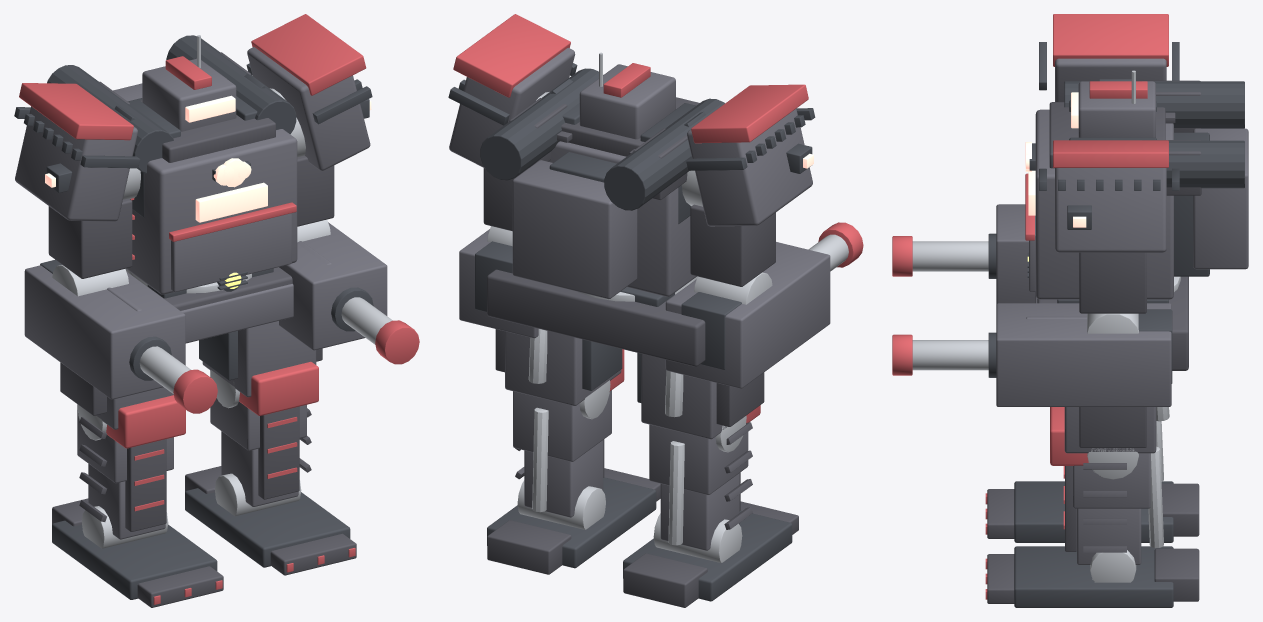
Rendered from patriarch.glb.
3 renders of one model, left to right at view 1: azimuth 30°, elevation 25°; view 2: azimuth 150°, elevation 25°; view 3: azimuth 270°, elevation 25°, orthographic. The views are drawn at different scales.
Parts seen in each view (by area): view 1: PAT_torso_shell, PAT_gun_r_shell, PAT_gun_l_shell, PAT_arm_r_shell, PAT_foot_l_dark, PAT_foot_r_dark, PAT_arm_l_shell, PAT_arm_l_trim, PAT_torso_plate, PAT_arm_r_plate, PAT_knee_r_plate, PAT_arm_r_trim (+33 smaller); view 2: PAT_torso_shell, PAT_torso_plate, PAT_gun_r_shell, PAT_arm_r_shell, PAT_knee_l_shell, PAT_knee_r_shell, PAT_arm_l_trim, shoulder_cannon, PAT_arm_r_plate, shoulder_cannon.001, PAT_foot_l_dark, PAT_head_shell (+25 smaller); view 3: PAT_gun_l_shell, PAT_torso_shell, PAT_arm_l_shell, PAT_foot_l_dark, PAT_knee_l_shell, PAT_arm_r_trim, PAT_arm_l_plate, shoulder_cannon.001, PAT_torso_plate, PAT_foot_r_dark, shoulder_cannon, PAT_foot_l_plate (+22 smaller).
Boxes of the visible parts, x1=… form: PAT_torso_shell: x1=107, y1=83, x2=331, y2=343; PAT_gun_r_shell: x1=24, y1=265, x2=185, y2=399; PAT_gun_l_shell: x1=279, y1=222, x2=387, y2=350; PAT_arm_r_shell: x1=15, y1=106, x2=137, y2=221; PAT_foot_l_dark: x1=185, y1=488, x2=350, y2=567; PAT_foot_r_dark: x1=52, y1=520, x2=217, y2=599; PAT_arm_l_shell: x1=247, y1=47, x2=370, y2=170; PAT_arm_l_trim: x1=251, y1=14, x2=366, y2=95; PAT_torso_plate: x1=98, y1=52, x2=292, y2=310; PAT_arm_r_plate: x1=48, y1=198, x2=132, y2=278; PAT_knee_r_plate: x1=79, y1=417, x2=166, y2=531; PAT_arm_r_trim: x1=19, y1=83, x2=133, y2=140; PAT_torso_shell: x1=512, y1=141, x2=696, y2=299; PAT_torso_plate: x1=487, y1=97, x2=705, y2=366; PAT_gun_r_shell: x1=665, y1=242, x2=830, y2=388; PAT_arm_r_shell: x1=687, y1=109, x2=812, y2=226; PAT_knee_l_shell: x1=513, y1=390, x2=611, y2=517; PAT_knee_r_shell: x1=649, y1=424, x2=748, y2=550; PAT_arm_l_trim: x1=453, y1=14, x2=570, y2=97; shoulder_cannon: x1=480, y1=68, x2=598, y2=180; PAT_arm_r_plate: x1=690, y1=204, x2=775, y2=286; shoulder_cannon.001: x1=604, y1=98, x2=724, y2=210; PAT_foot_l_dark: x1=487, y1=477, x2=656, y2=568; PAT_head_shell: x1=579, y1=64, x2=675, y2=139; PAT_gun_l_shell: x1=996, y1=303, x2=1171, y2=406; PAT_torso_shell: x1=1026, y1=109, x2=1248, y2=319; PAT_arm_l_shell: x1=1055, y1=168, x2=1166, y2=252; PAT_foot_l_dark: x1=1014, y1=546, x2=1173, y2=607; PAT_knee_l_shell: x1=1073, y1=453, x2=1150, y2=564; PAT_arm_r_trim: x1=1053, y1=14, x2=1168, y2=66; PAT_arm_l_plate: x1=1079, y1=252, x2=1146, y2=313; shoulder_cannon.001: x1=1064, y1=81, x2=1244, y2=128; PAT_torso_plate: x1=1037, y1=80, x2=1201, y2=370; PAT_foot_r_dark: x1=1014, y1=481, x2=1173, y2=542; shoulder_cannon: x1=1166, y1=140, x2=1244, y2=188; PAT_foot_l_plate: x1=987, y1=548, x2=1199, y2=603.
Size of the model in its own units: 8.02 by 11.75 by 7.71.
